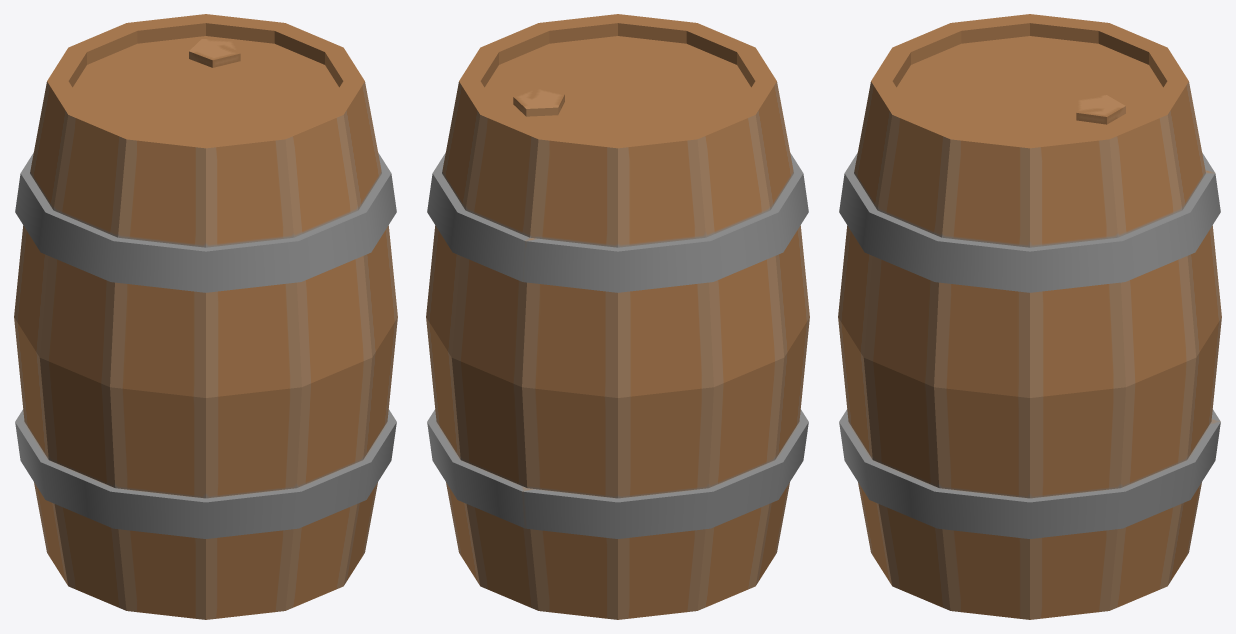
Rendered from barrel.fbx.
The picture shows the model from 3 angles, left to right: view 1: azimuth 30°, elevation 25°; view 2: azimuth 150°, elevation 25°; view 3: azimuth 270°, elevation 25°; orthographic projection.
Visible parts, largest first — view 1: Barrel; view 2: Barrel; view 3: Barrel.
Part boxes in pixels (x1,y1,x2,y2): Barrel: (14, 14, 397, 619); Barrel: (426, 14, 809, 619); Barrel: (838, 14, 1221, 619).
Bounding box in the file's own units: 66.41 × 90 × 66.41.
